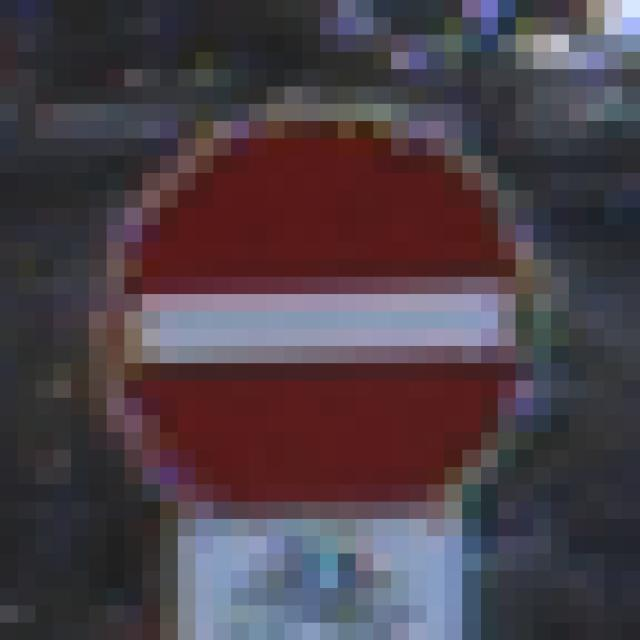No Entry: (90, 88, 552, 555)
